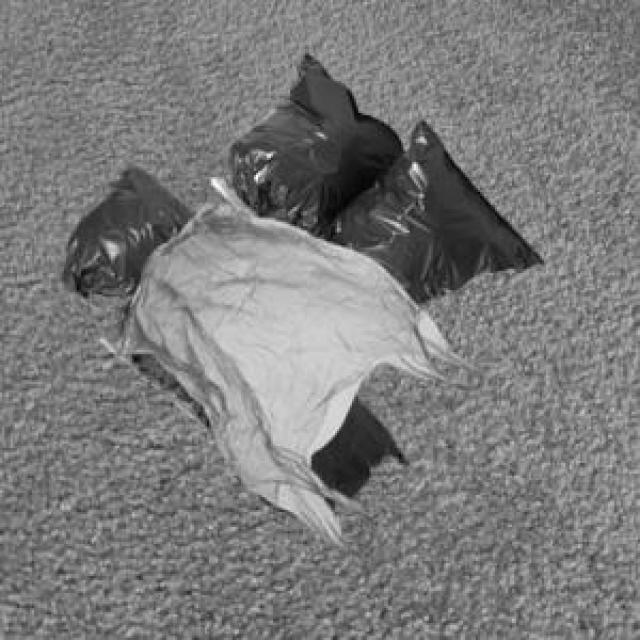miscellaneous trash: (58, 158, 405, 510), (207, 51, 540, 303)
